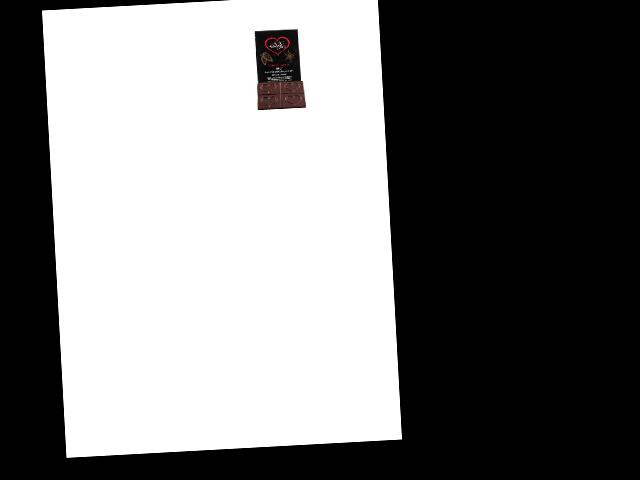chocolate: (251, 27, 309, 113)
